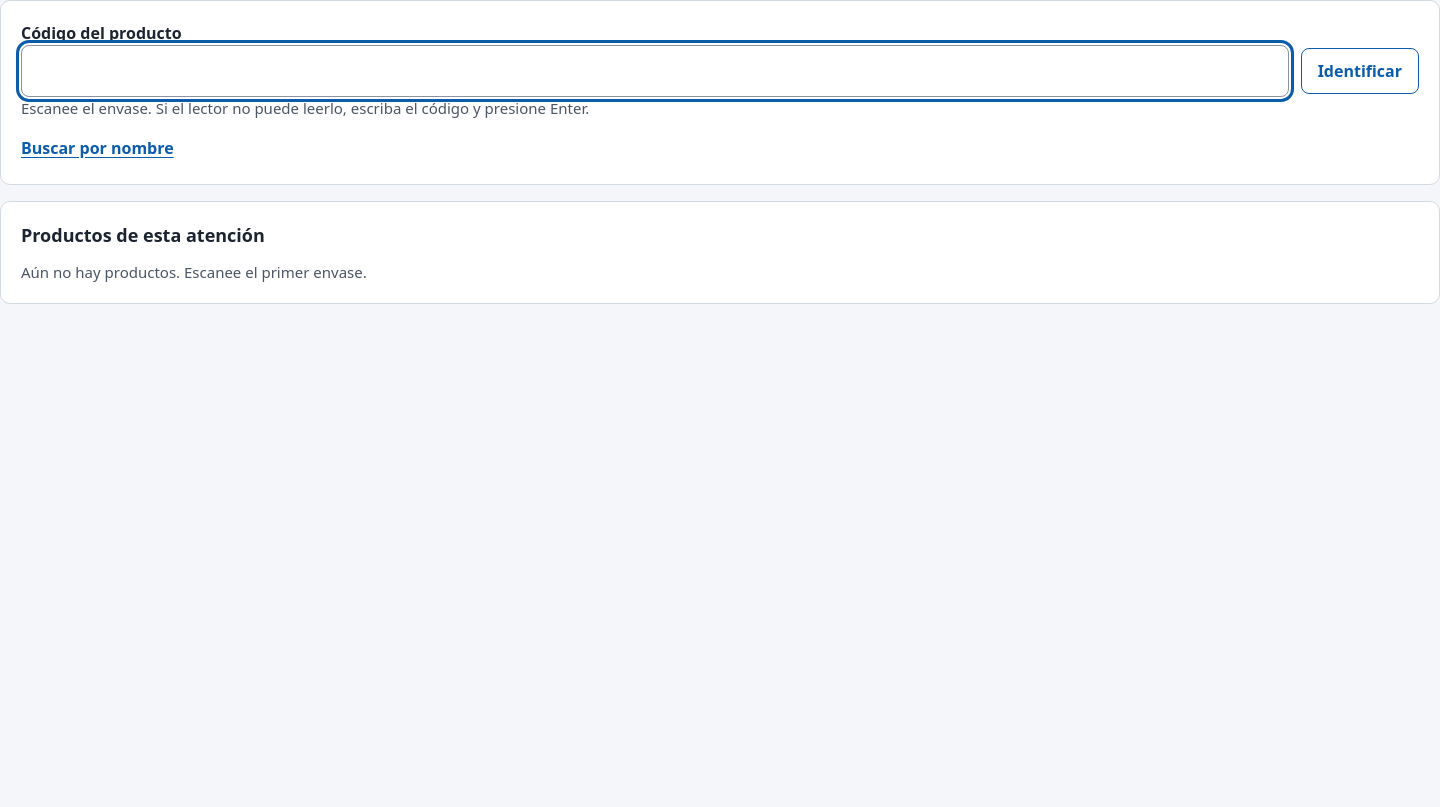
Test: Posología en el mesón (HU-03) › el auxiliar puede usar una posología propia en la atención, pero no guardarla como plantilla
The width and height of the screenshot is (1440, 807).
Type keys "7802250012344{Enter}"
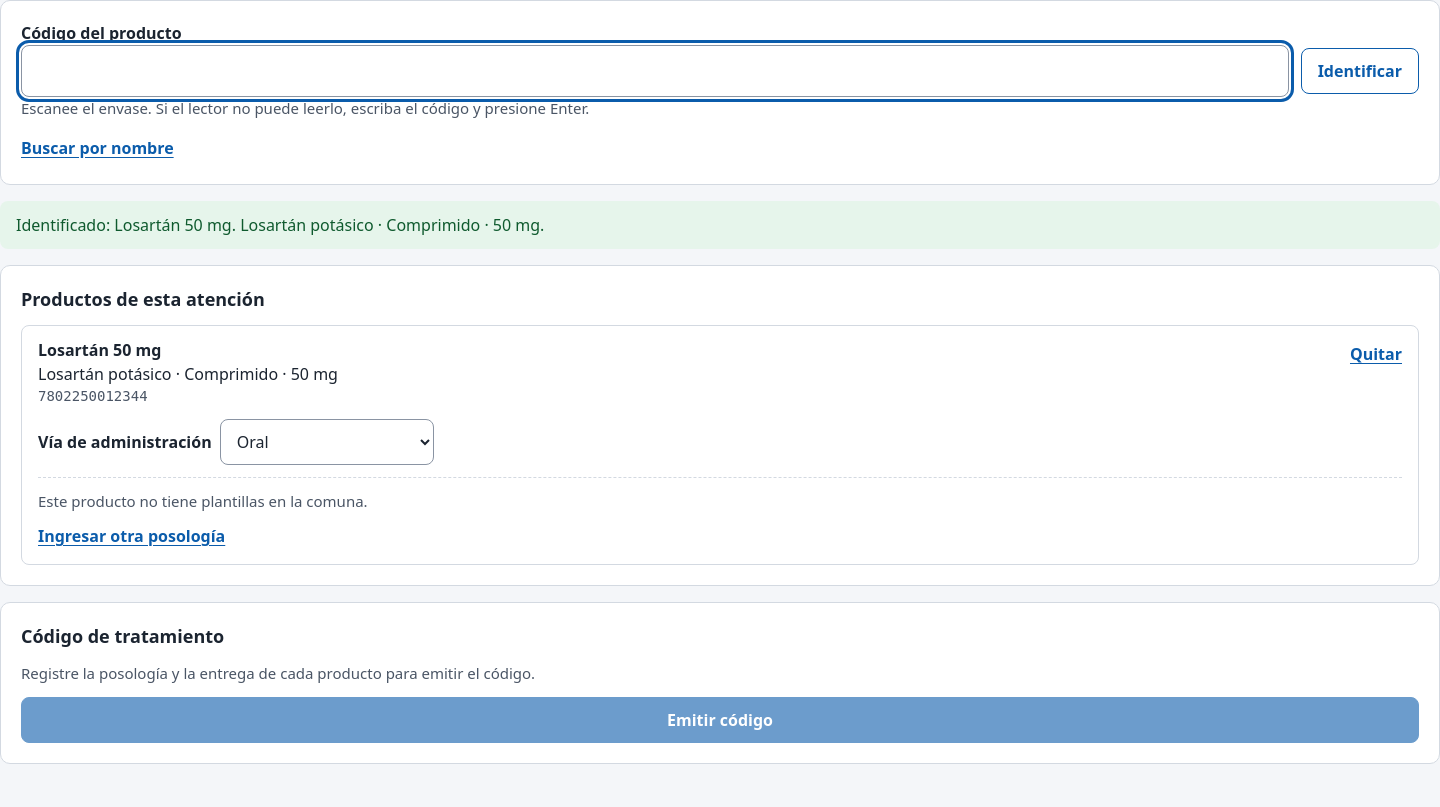
Click the button "Ingresar otra posología" at (132, 536), box [38, 520, 225, 552]
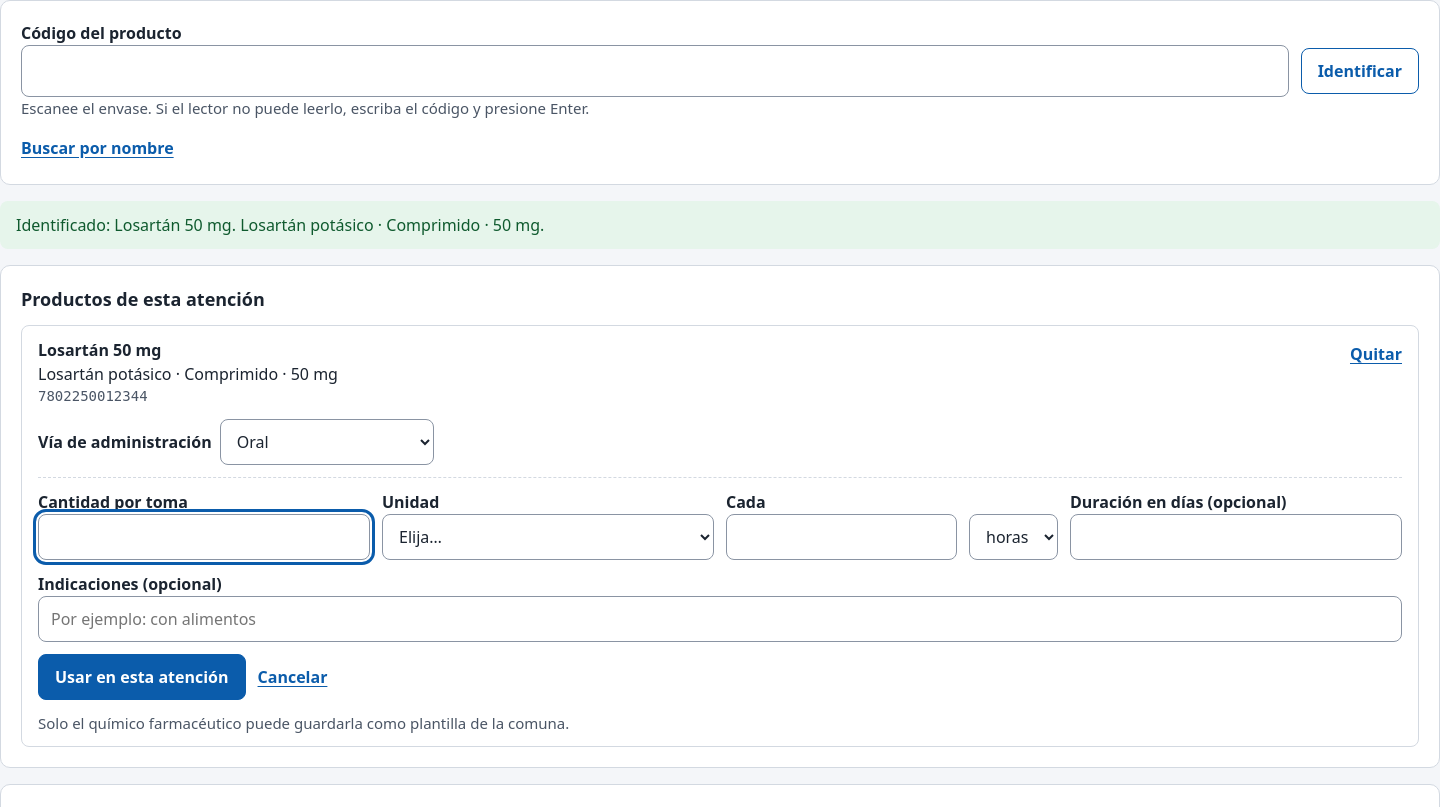
Expected: the text "Solo el químico farmacéutico puede guardarla" is shown, [38, 712, 569, 732]
Type "2" into the field labelled "Cantidad por toma" at (204, 536), box [38, 514, 370, 560]
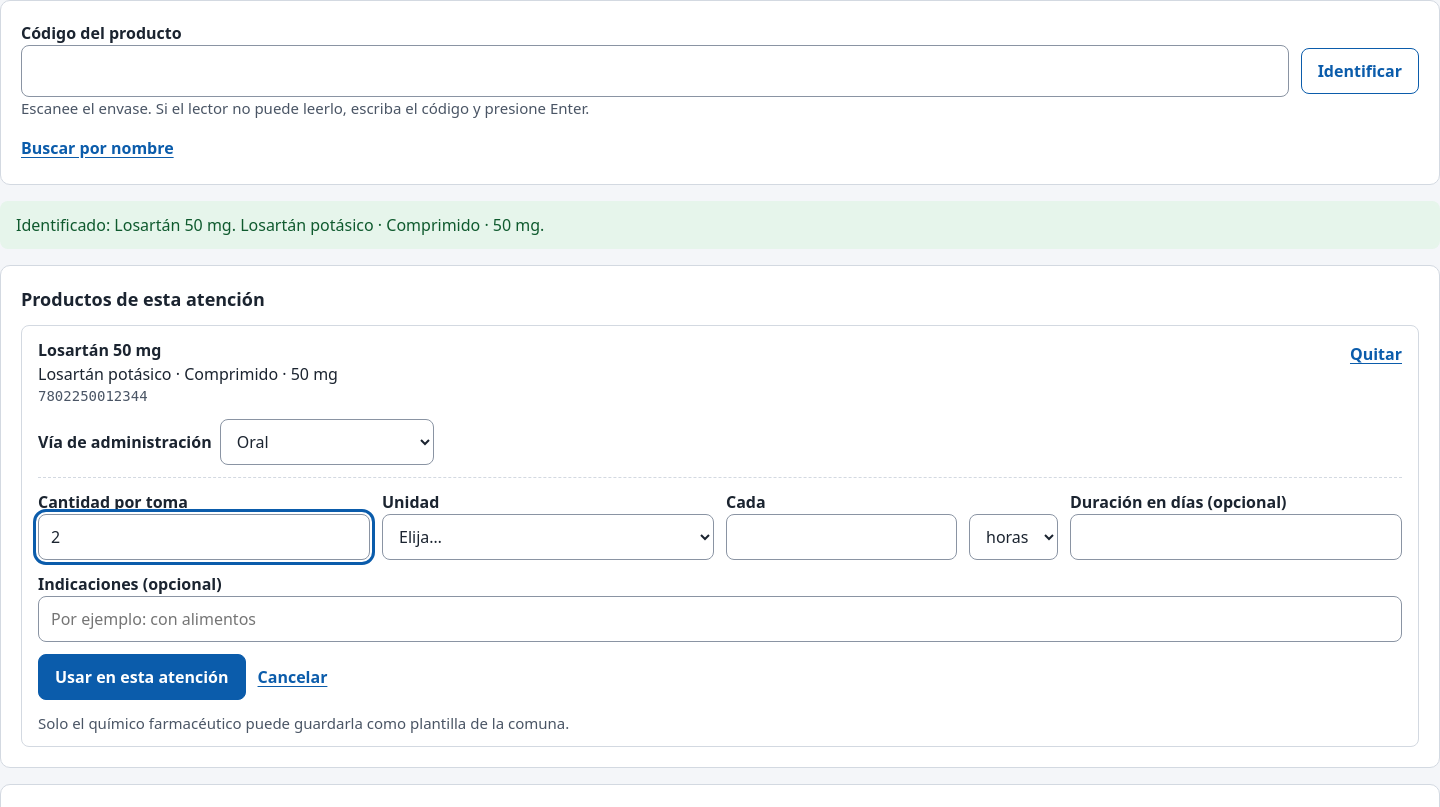
Select "inhalación" in the dropdown labelled "Unidad" at (548, 536), box [382, 514, 714, 560]
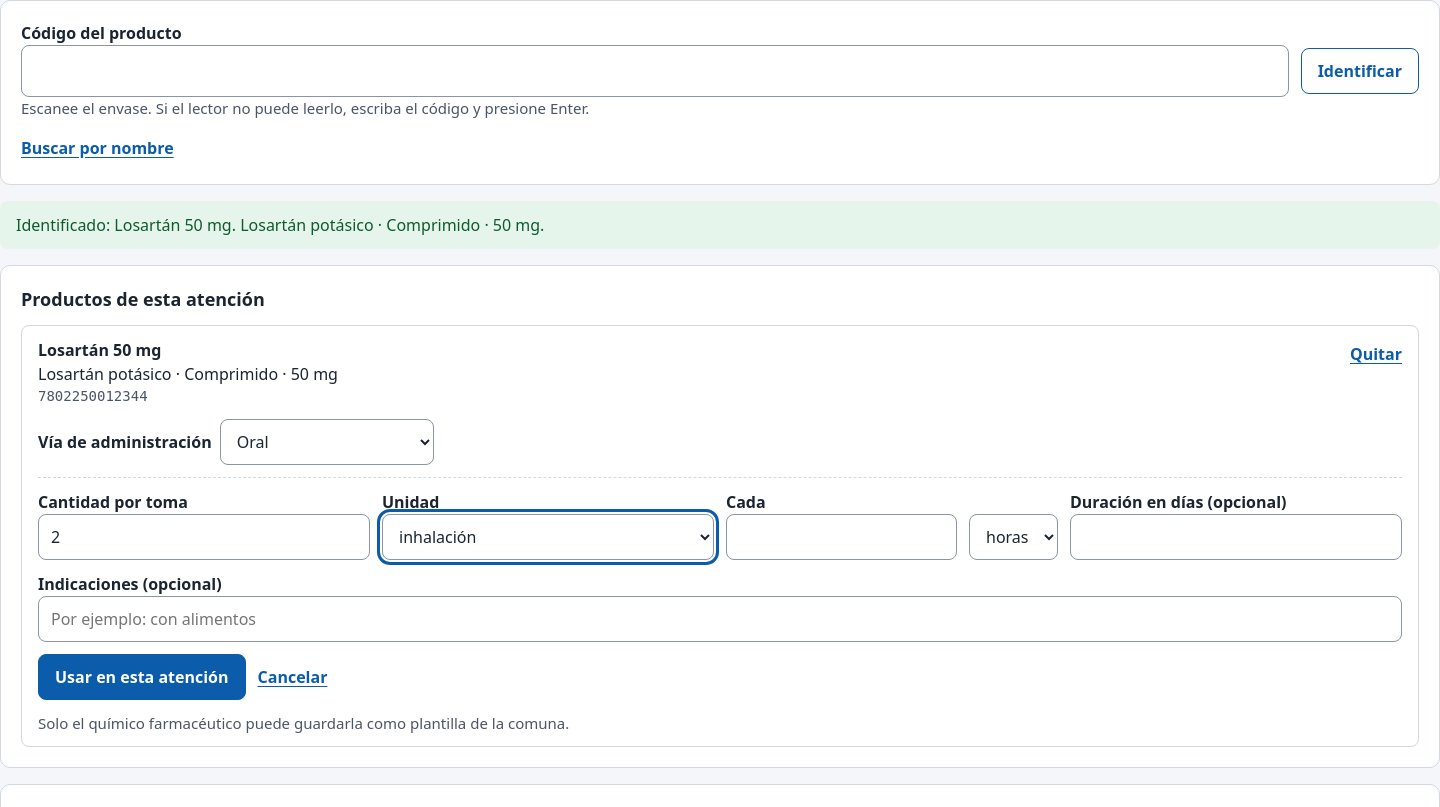
Type "6" into the field labelled "Cada" at (842, 536), box [726, 514, 957, 560]
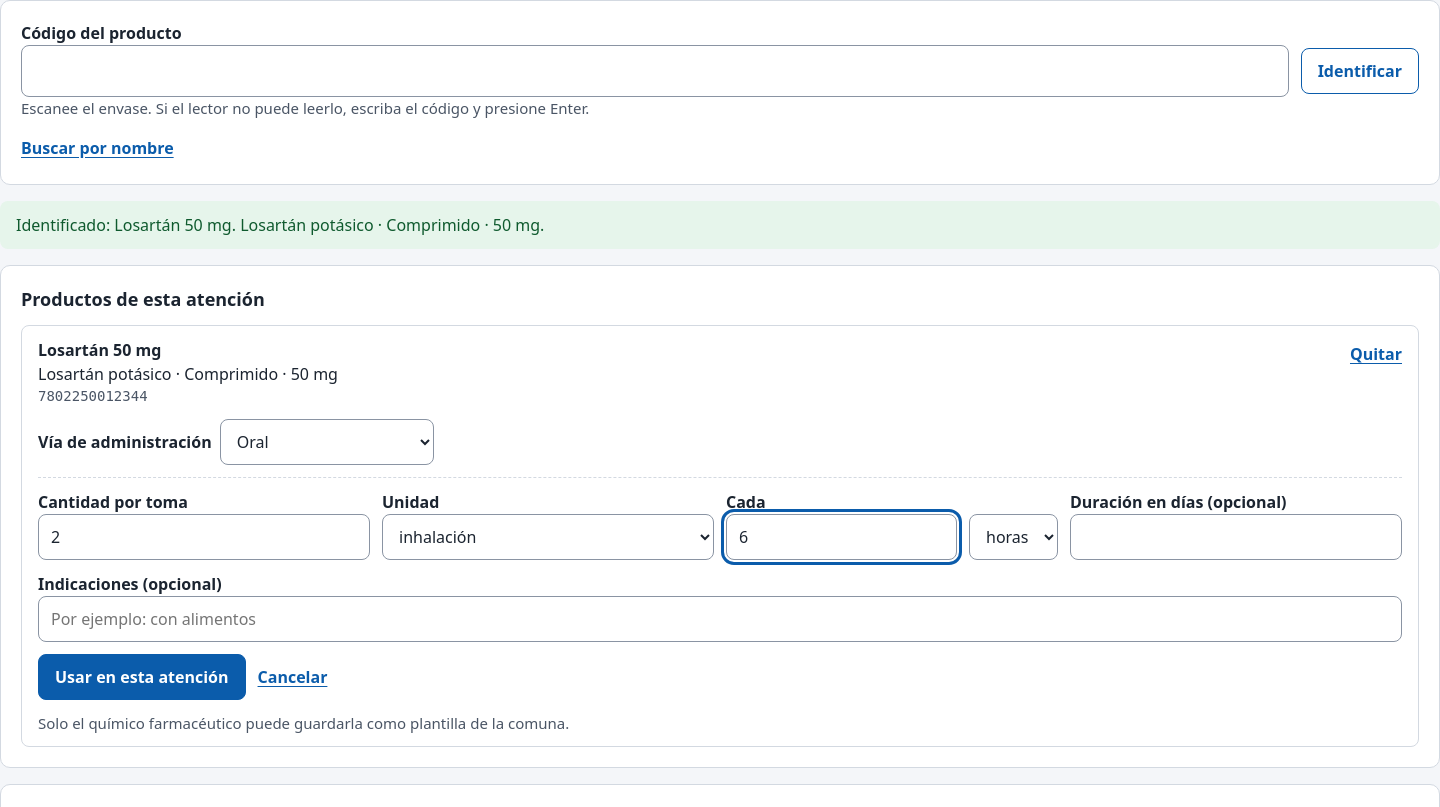
Click the button "Usar en esta atención" at (142, 676), box [38, 654, 246, 700]
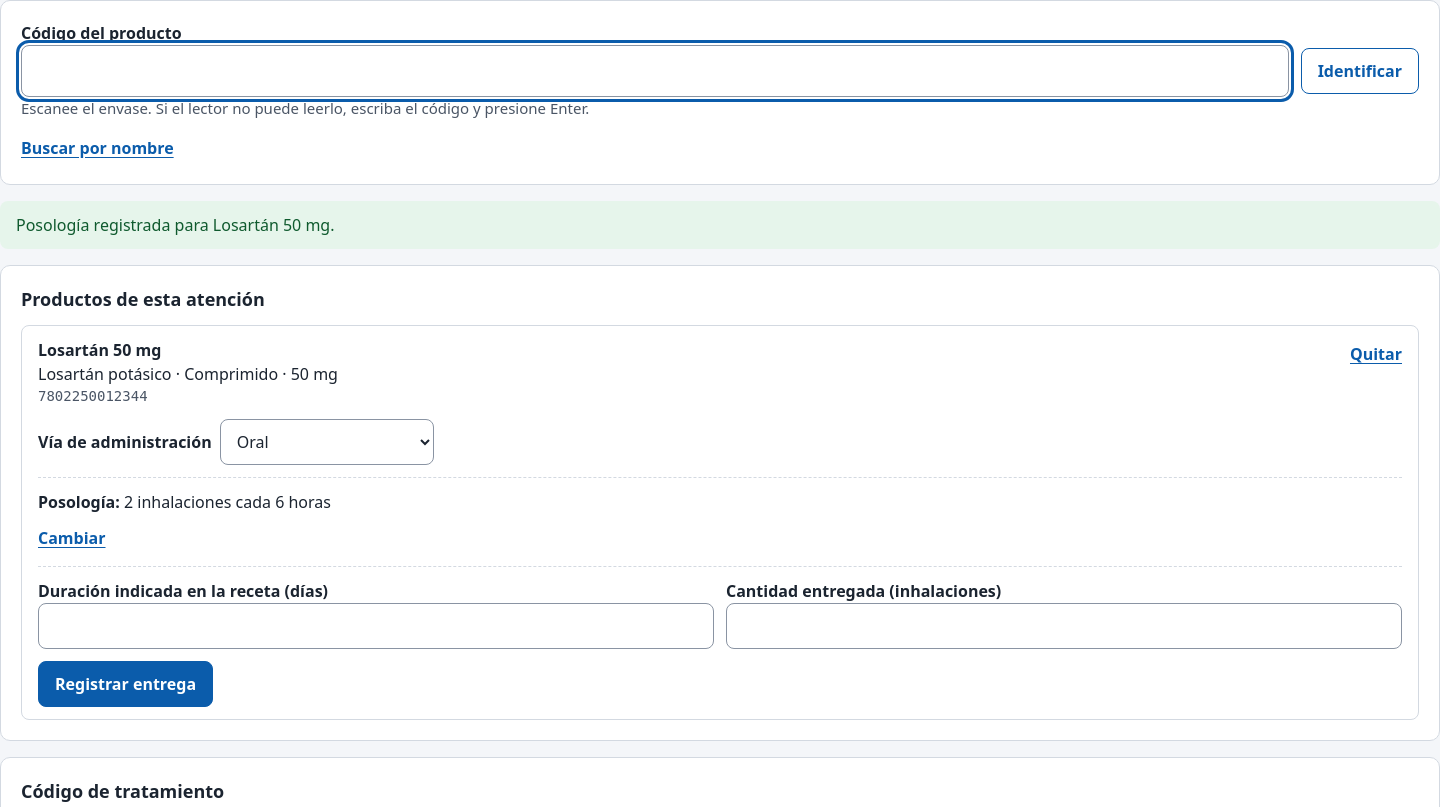
Expected: the text "2 inhalaciones cada 6 horas" is shown, [124, 490, 331, 512]
Expected: the text "plantilla de la comuna" is gone
